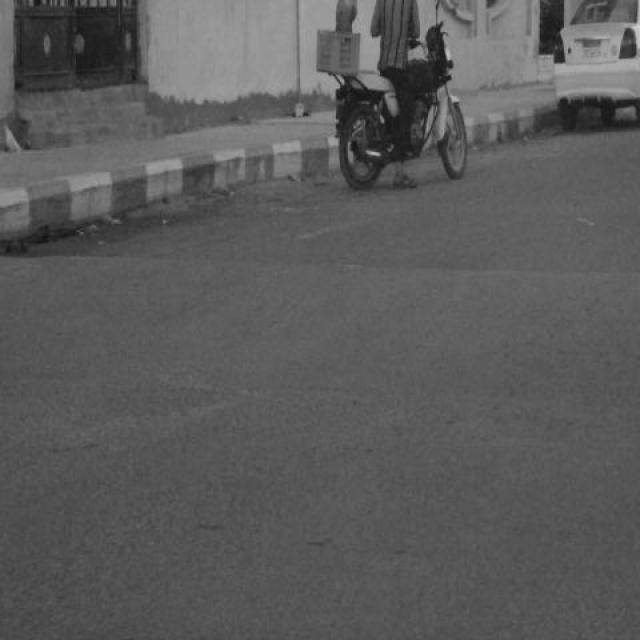Unmarked Bump: (0, 251, 640, 432)
